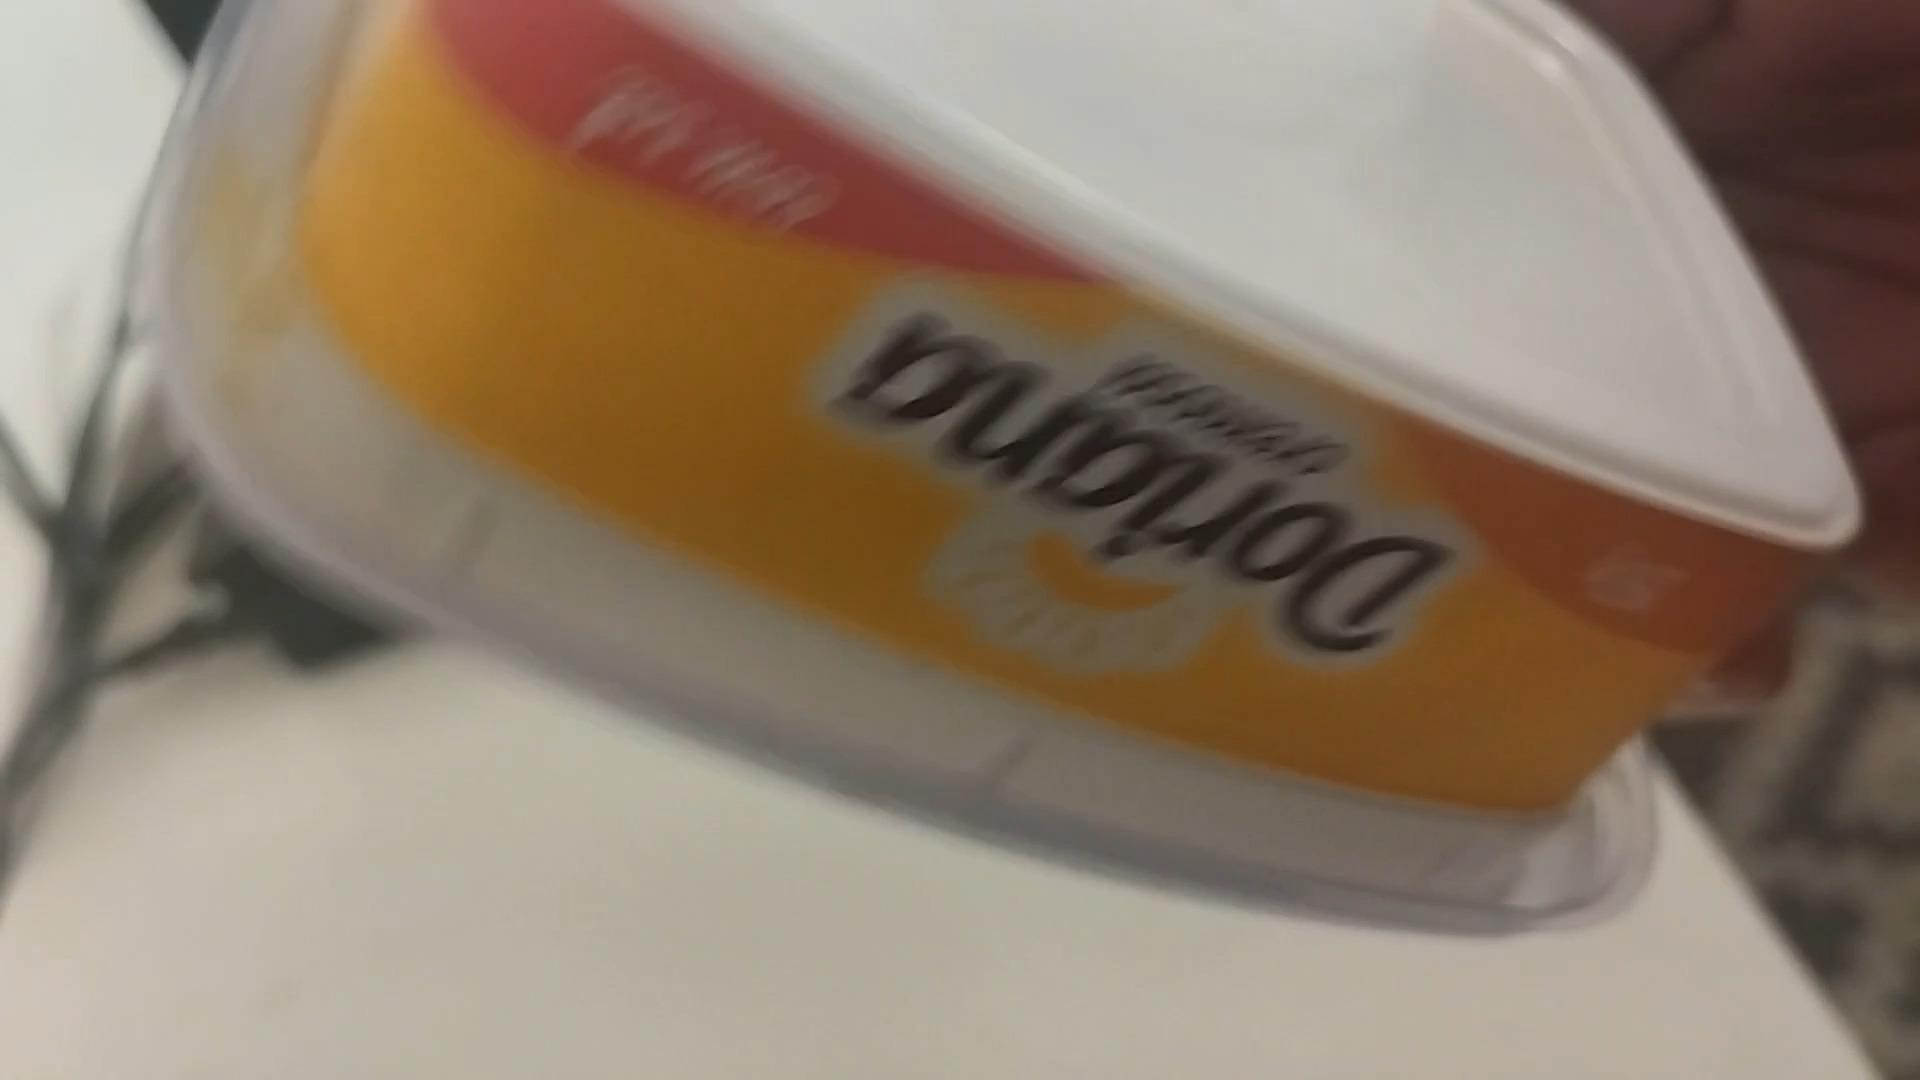butter: (132, 0, 1878, 952)
